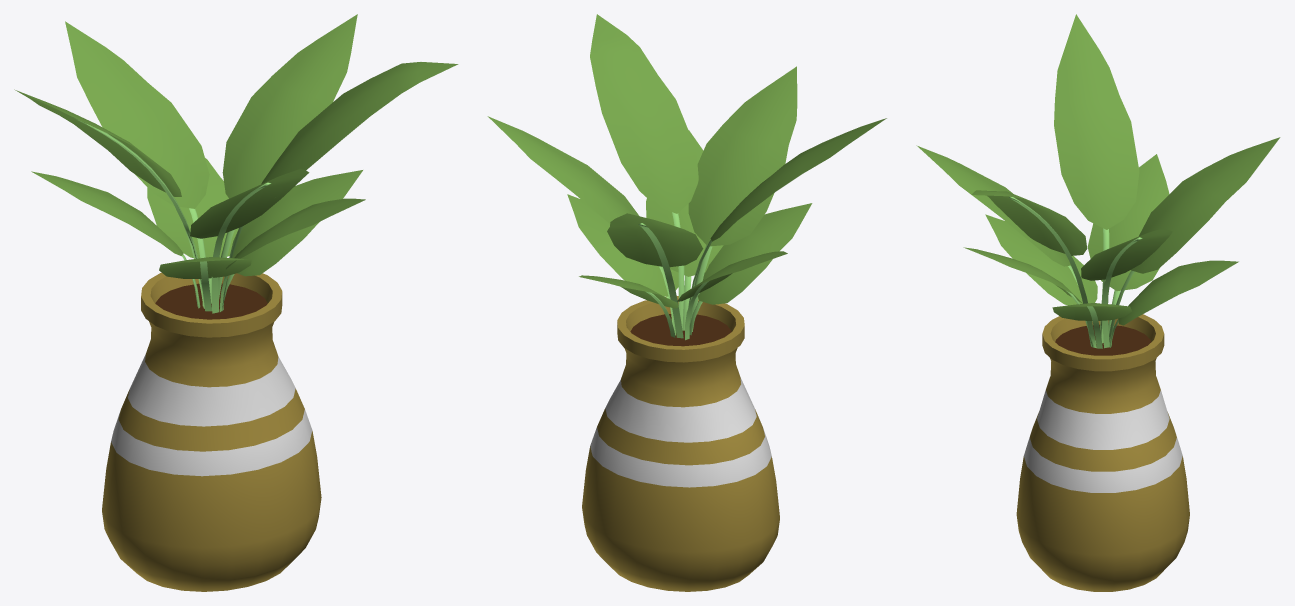
Rendered from PLANTE.fbx.
3 renders of one model, left to right at view 1: azimuth 30°, elevation 25°; view 2: azimuth 150°, elevation 25°; view 3: azimuth 270°, elevation 25°, orthographic. The views are drawn at different scales.
Visible parts, largest first — view 1: Cylinder.038, Cube.093, Cube.092, Cube.091, Cube.098, Cube.090, Cube.089, Cube.097, Cube.094, Cube.096, Cube.095; view 2: Cylinder.038, Cube.091, Cube.090, Cube.095, Cube.092, Cube.093, Cube.089, Cube.098, Cube.096, Cube.094, Cube.097; view 3: Cylinder.038, Cube.089, Cube.092, Cube.091, Cube.094, Cube.095, Cube.093, Cube.097, Cube.090, Cube.098, Cube.096.
Boxes of the visible parts, x1,y1,x2,y2 form: Cylinder.038: [102, 272, 321, 591]; Cube.093: [218, 14, 357, 299]; Cube.092: [65, 21, 209, 305]; Cube.091: [222, 62, 458, 310]; Cube.098: [219, 170, 362, 306]; Cube.090: [190, 168, 309, 313]; Cube.089: [14, 89, 204, 308]; Cube.097: [147, 158, 238, 303]; Cube.094: [31, 171, 200, 308]; Cube.096: [220, 198, 365, 311]; Cube.095: [159, 257, 251, 311]; Cylinder.038: [582, 296, 779, 591]; Cube.091: [590, 14, 698, 329]; Cube.090: [688, 66, 797, 331]; Cube.095: [689, 203, 812, 335]; Cube.092: [607, 213, 703, 338]; Cube.093: [487, 116, 675, 335]; Cube.089: [688, 118, 886, 307]; Cube.098: [567, 194, 678, 307]; Cube.096: [646, 130, 723, 330]; Cube.094: [677, 251, 787, 340]; Cube.097: [579, 275, 678, 337]; Cylinder.038: [1016, 314, 1189, 591]; Cube.089: [1054, 14, 1139, 343]; Cube.092: [1109, 137, 1280, 341]; Cube.091: [971, 190, 1096, 348]; Cube.094: [1087, 154, 1169, 333]; Cube.095: [985, 214, 1097, 343]; Cube.093: [1081, 228, 1172, 348]; Cube.097: [1109, 260, 1238, 347]; Cube.090: [916, 145, 1078, 285]; Cube.098: [1052, 303, 1131, 348]; Cube.096: [963, 247, 1093, 347].
Size of the model in its own units: 147 by 190 by 137.
